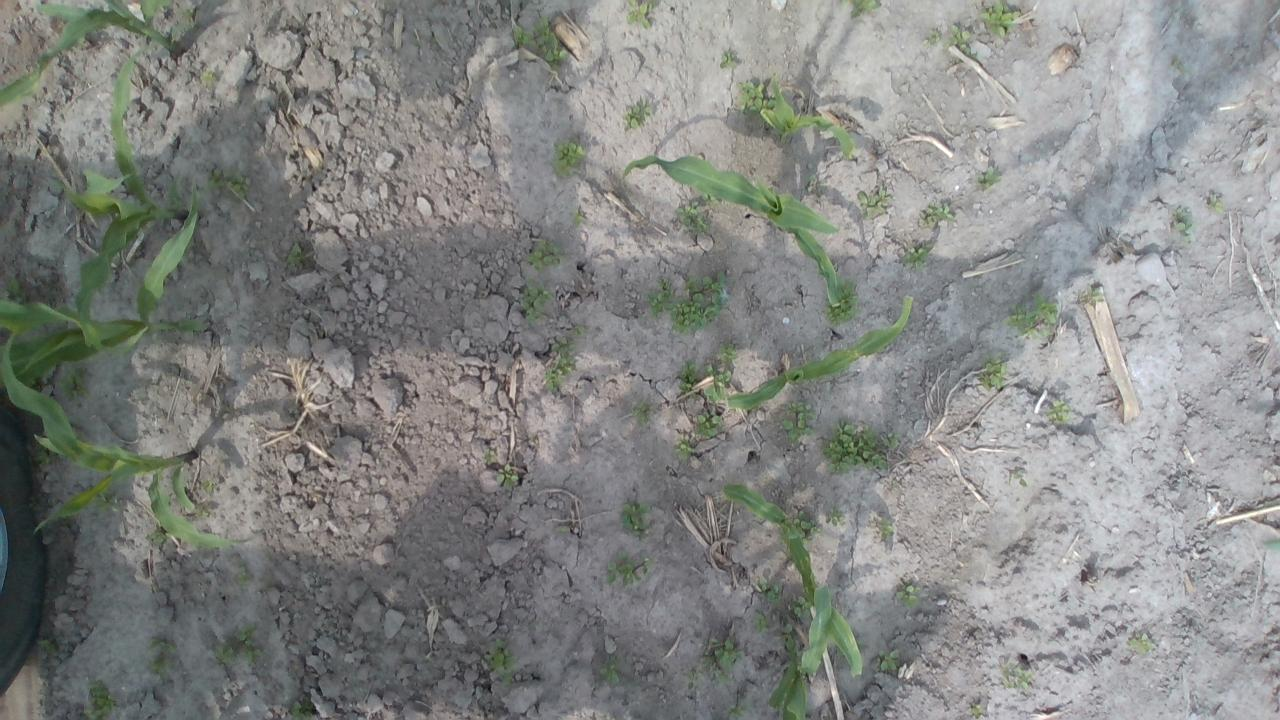Maize: (6, 43, 200, 369), (0, 322, 245, 552), (0, 170, 204, 398), (624, 155, 848, 311), (714, 482, 866, 679), (703, 292, 915, 413), (2, 3, 181, 108), (765, 578, 837, 718), (760, 78, 859, 160)
Weeds: (754, 580, 814, 672), (650, 272, 730, 332), (820, 424, 900, 474), (666, 345, 734, 403), (506, 20, 566, 66), (540, 332, 584, 392), (789, 504, 848, 546), (1009, 297, 1060, 344), (202, 161, 254, 201), (979, 1, 1026, 40), (212, 630, 262, 666), (922, 23, 972, 58), (702, 637, 742, 680), (606, 552, 650, 590), (478, 450, 518, 490), (144, 634, 178, 680), (738, 77, 773, 119), (520, 283, 552, 326), (671, 201, 708, 238), (80, 678, 113, 719), (617, 502, 653, 538), (554, 137, 585, 178), (524, 238, 560, 273), (854, 187, 890, 220), (620, 100, 654, 132), (488, 644, 518, 678), (786, 402, 811, 442), (621, 0, 658, 26), (918, 202, 954, 228), (282, 244, 309, 276), (696, 406, 722, 438), (978, 362, 1007, 390), (592, 658, 620, 686), (1004, 662, 1028, 692), (902, 241, 929, 266), (1172, 212, 1195, 240), (847, 1, 884, 18), (874, 515, 898, 541), (1049, 398, 1071, 426), (896, 581, 918, 608), (670, 439, 694, 463), (878, 644, 897, 672), (979, 166, 1001, 190), (1128, 631, 1150, 652), (632, 403, 652, 425), (1206, 194, 1220, 214), (722, 51, 738, 68)
